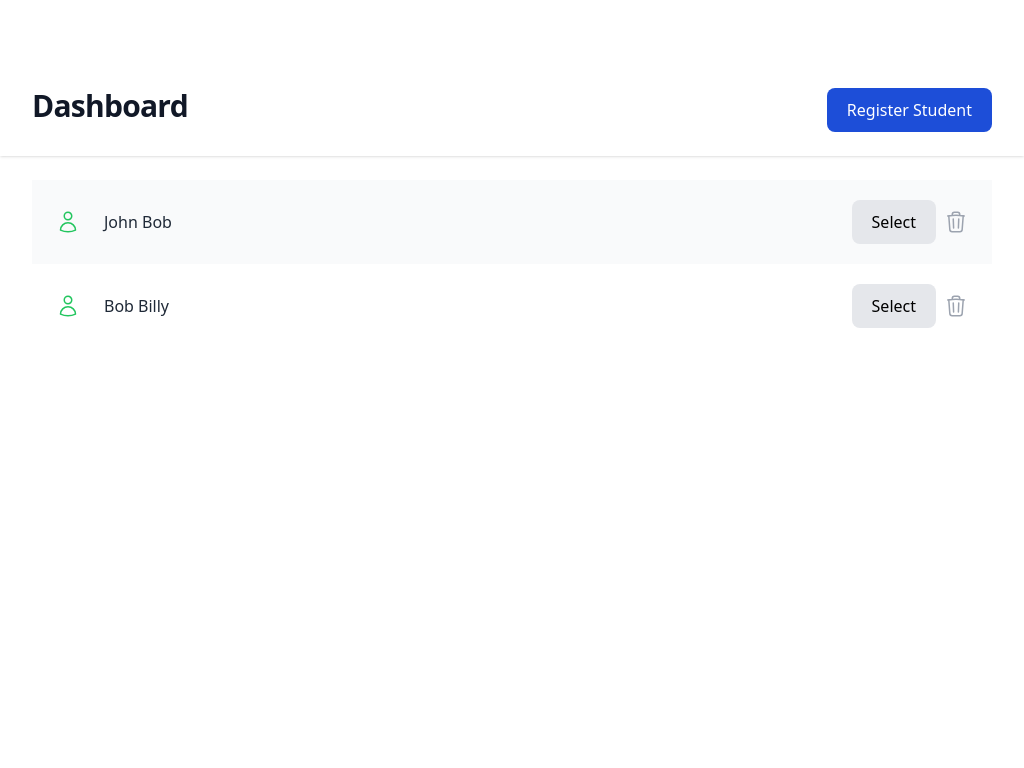
Test case: Dashboard › clicking on select a student › should render last book read banners
The width and height of the screenshot is (1024, 768).
Click the button "Select" in the row of "John Bob".
click(894, 222)  # box [852,200,936,244]
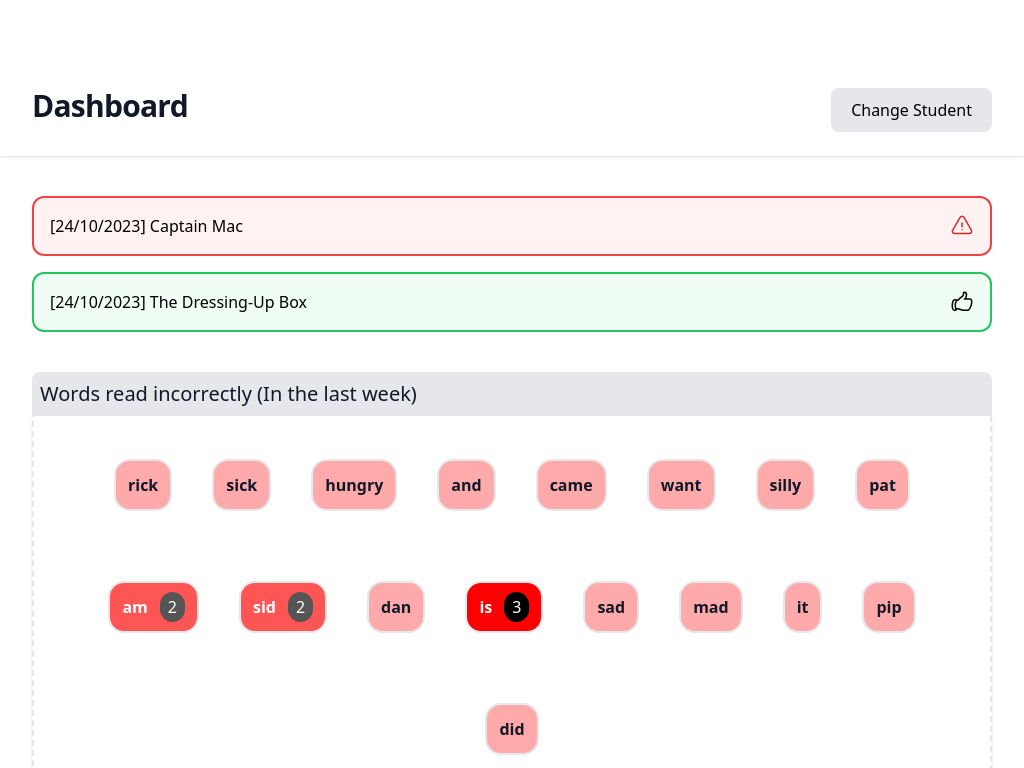
Expected: the number of elements with test id "banner-test" is 2, [32,196,992,256]; [32,272,992,332]
Expected: the button "Change Student" is shown, [831,88,992,132]
